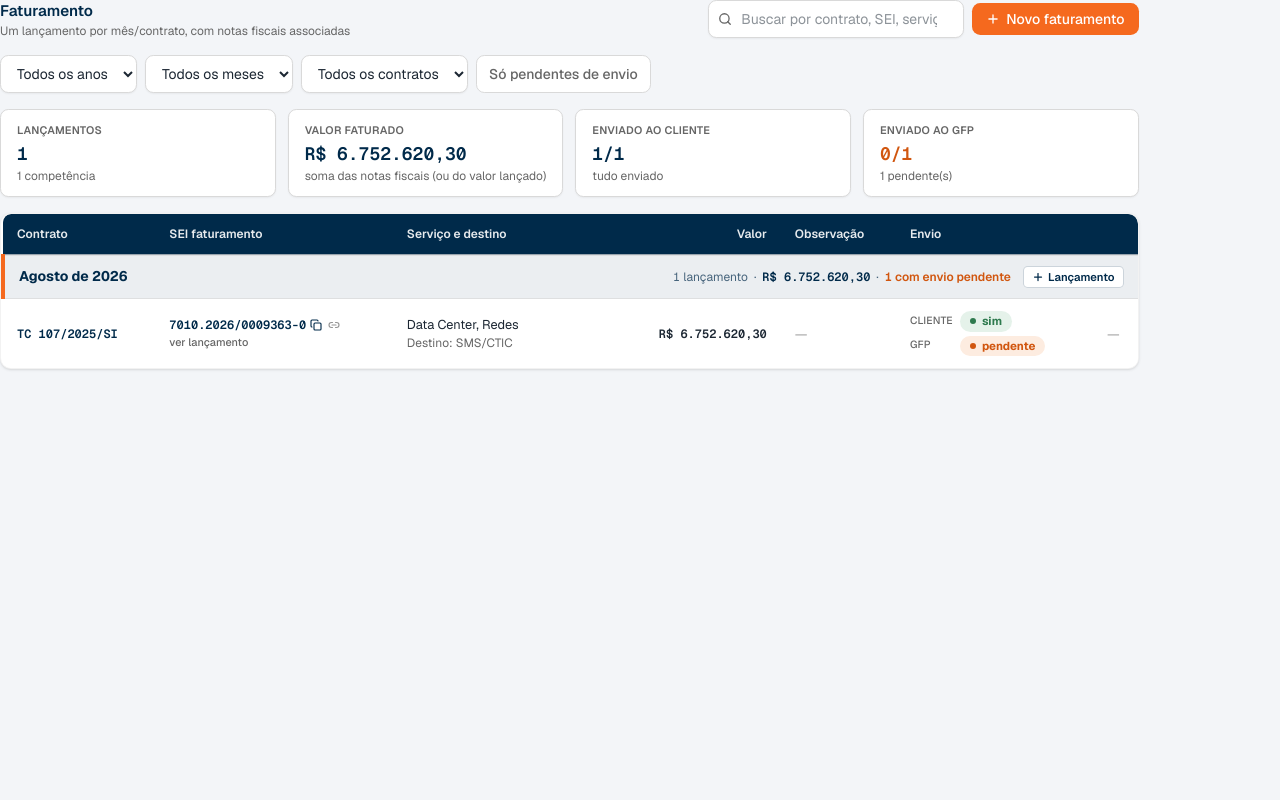
Test: AbaFaturamento › "Lançamento" na faixa da competência abre o formulário já com mês, ano e contrato
The image size is (1280, 800).
Click the button with aria-label "Adicionar lançamento em Agosto de 2026" at point(1073, 277), box [1023, 266, 1124, 288]
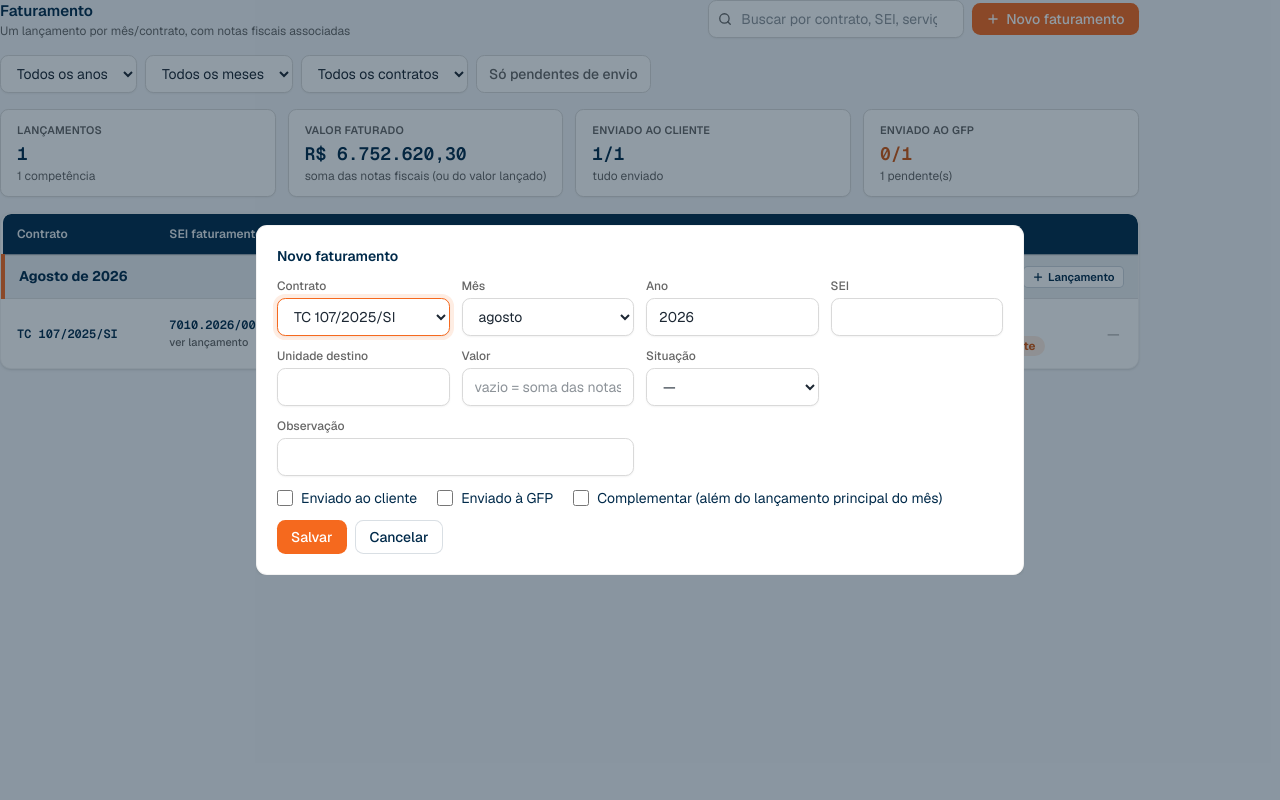
Expected: the dropdown labelled "Mês" shows "agosto", [462, 298, 634, 336]
Expected: the field labelled "Ano" holds "2026", [646, 298, 818, 336]
